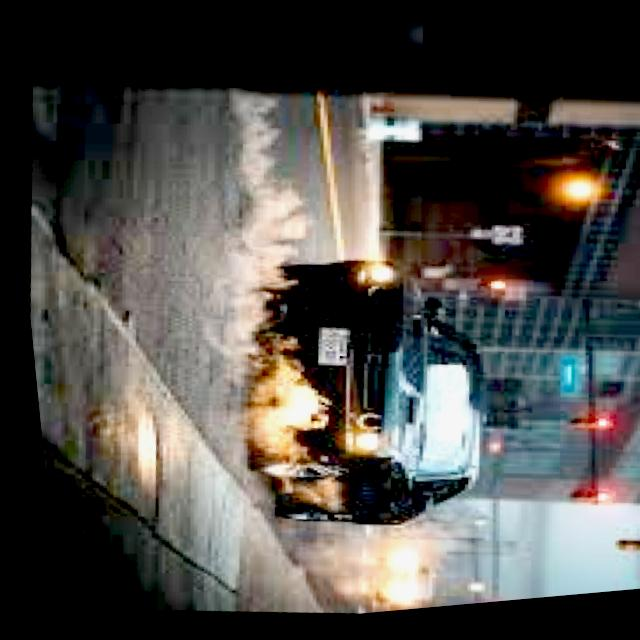no_helmet: (172, 87, 345, 462)
